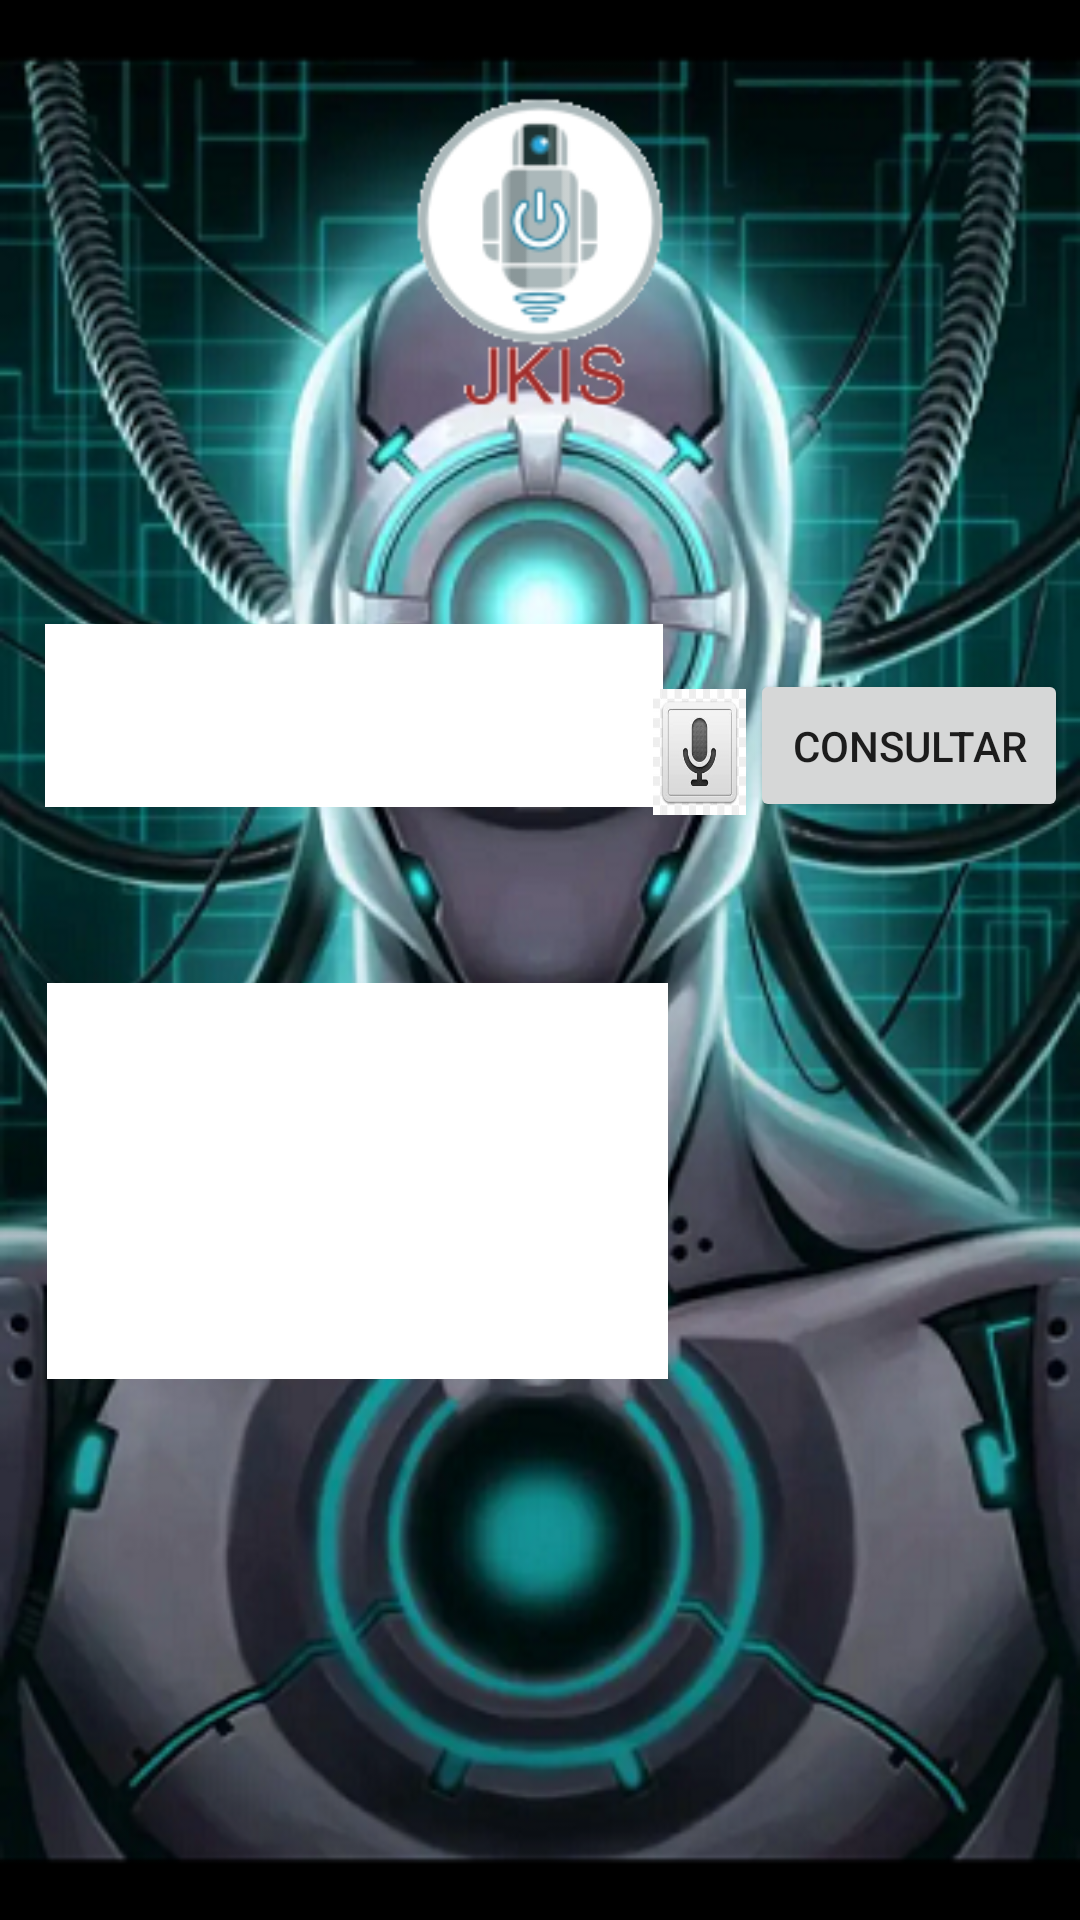

Named icons in this screenshot (1080 × 1920) and their bounding boxes, (x1, y1, x2, y2):
microfono: (661, 701, 738, 805)
